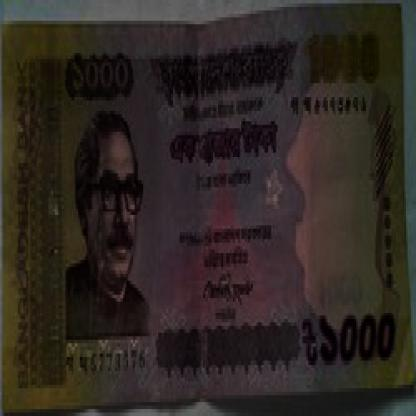One Thousand taka: (300, 308, 402, 371), (300, 31, 382, 90), (65, 56, 140, 97)
